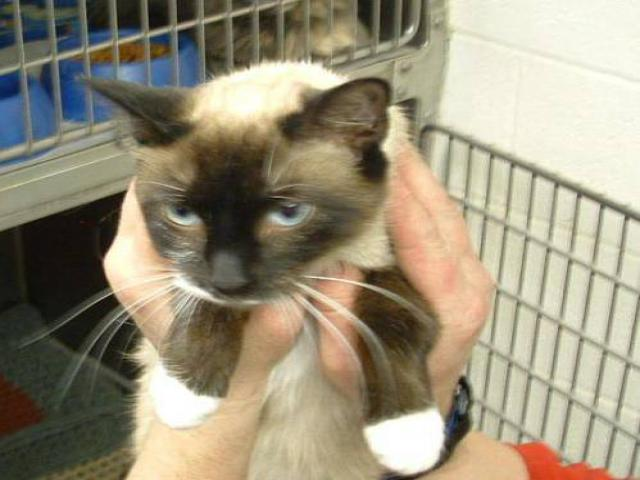cat: (66, 61, 509, 467)
